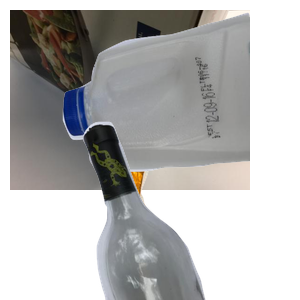cardboard: (10, 10, 250, 190)
glass: (81, 120, 300, 300)
plastic: (60, 10, 300, 175)
trash: (103, 147, 300, 300)
